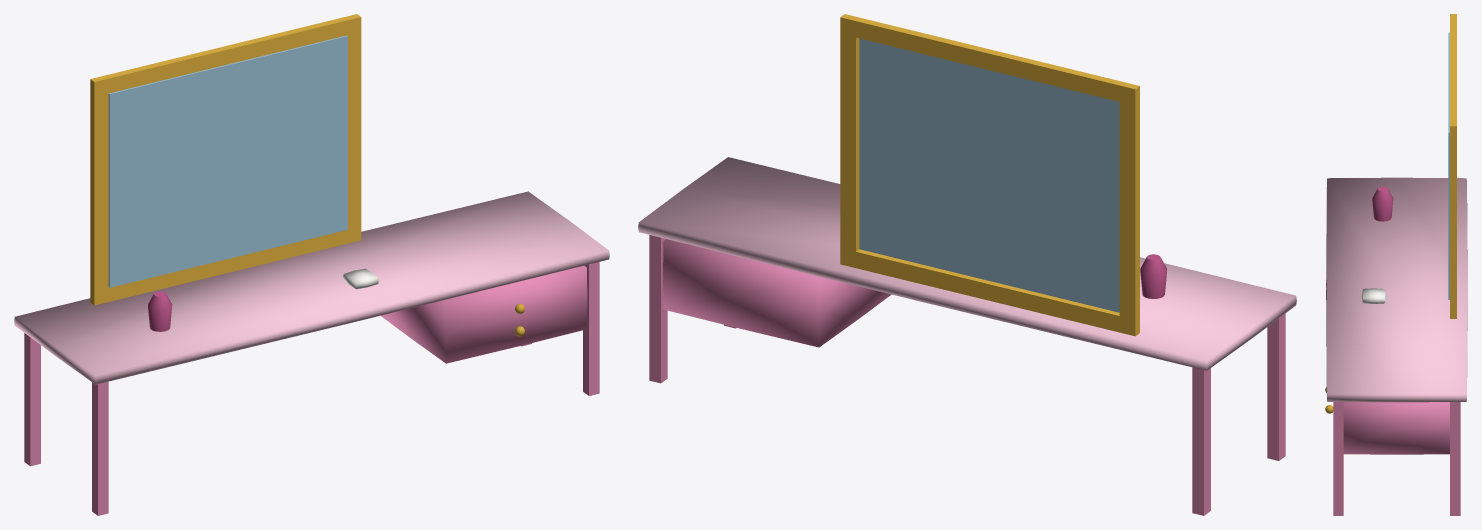
File: dressing_table.glb
3 views of the same model, side by side, from view 1: azimuth 30°, elevation 25°; view 2: azimuth 150°, elevation 25°; view 3: azimuth 270°, elevation 25° (orthographic). The views are drawn at different scales.
Parts seen in each view (by area): view 1: root; view 2: root; view 3: root.
Part boxes in pixels (x1=…): root: x1=14, y1=14, x2=609, y2=515; root: x1=638, y1=14, x2=1296, y2=515; root: x1=1325, y1=14, x2=1467, y2=515.
Bounding box in the file's own units: 2.9 × 1.98 × 0.805.
